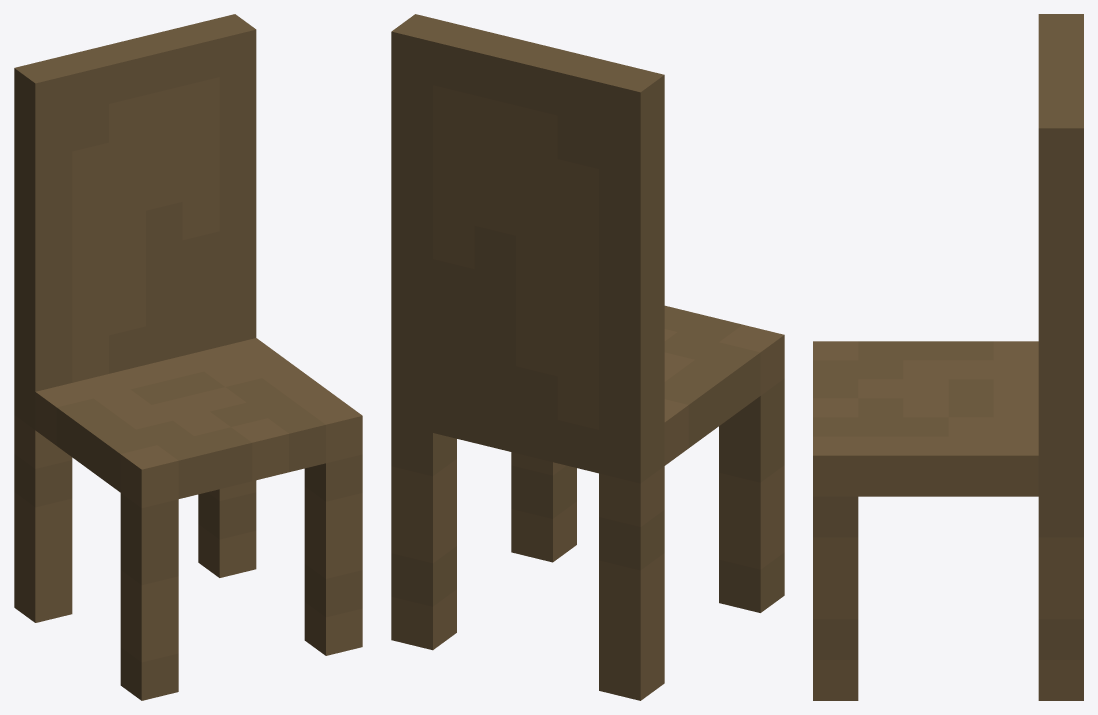
File: Decor-86.obj
The picture shows the model from 3 angles, left to right: view 1: azimuth 30°, elevation 25°; view 2: azimuth 150°, elevation 25°; view 3: azimuth 270°, elevation 25°; orthographic projection. The views are drawn at different scales.
Size of the model in its own units: 0.6 by 1.4 by 0.6.
1 material, 1 textured.
